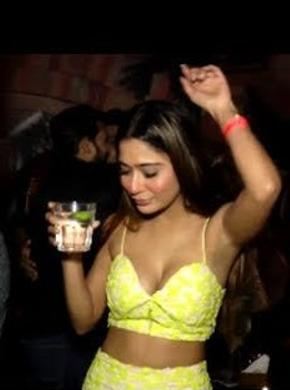Drunk: (119, 139, 175, 213)
